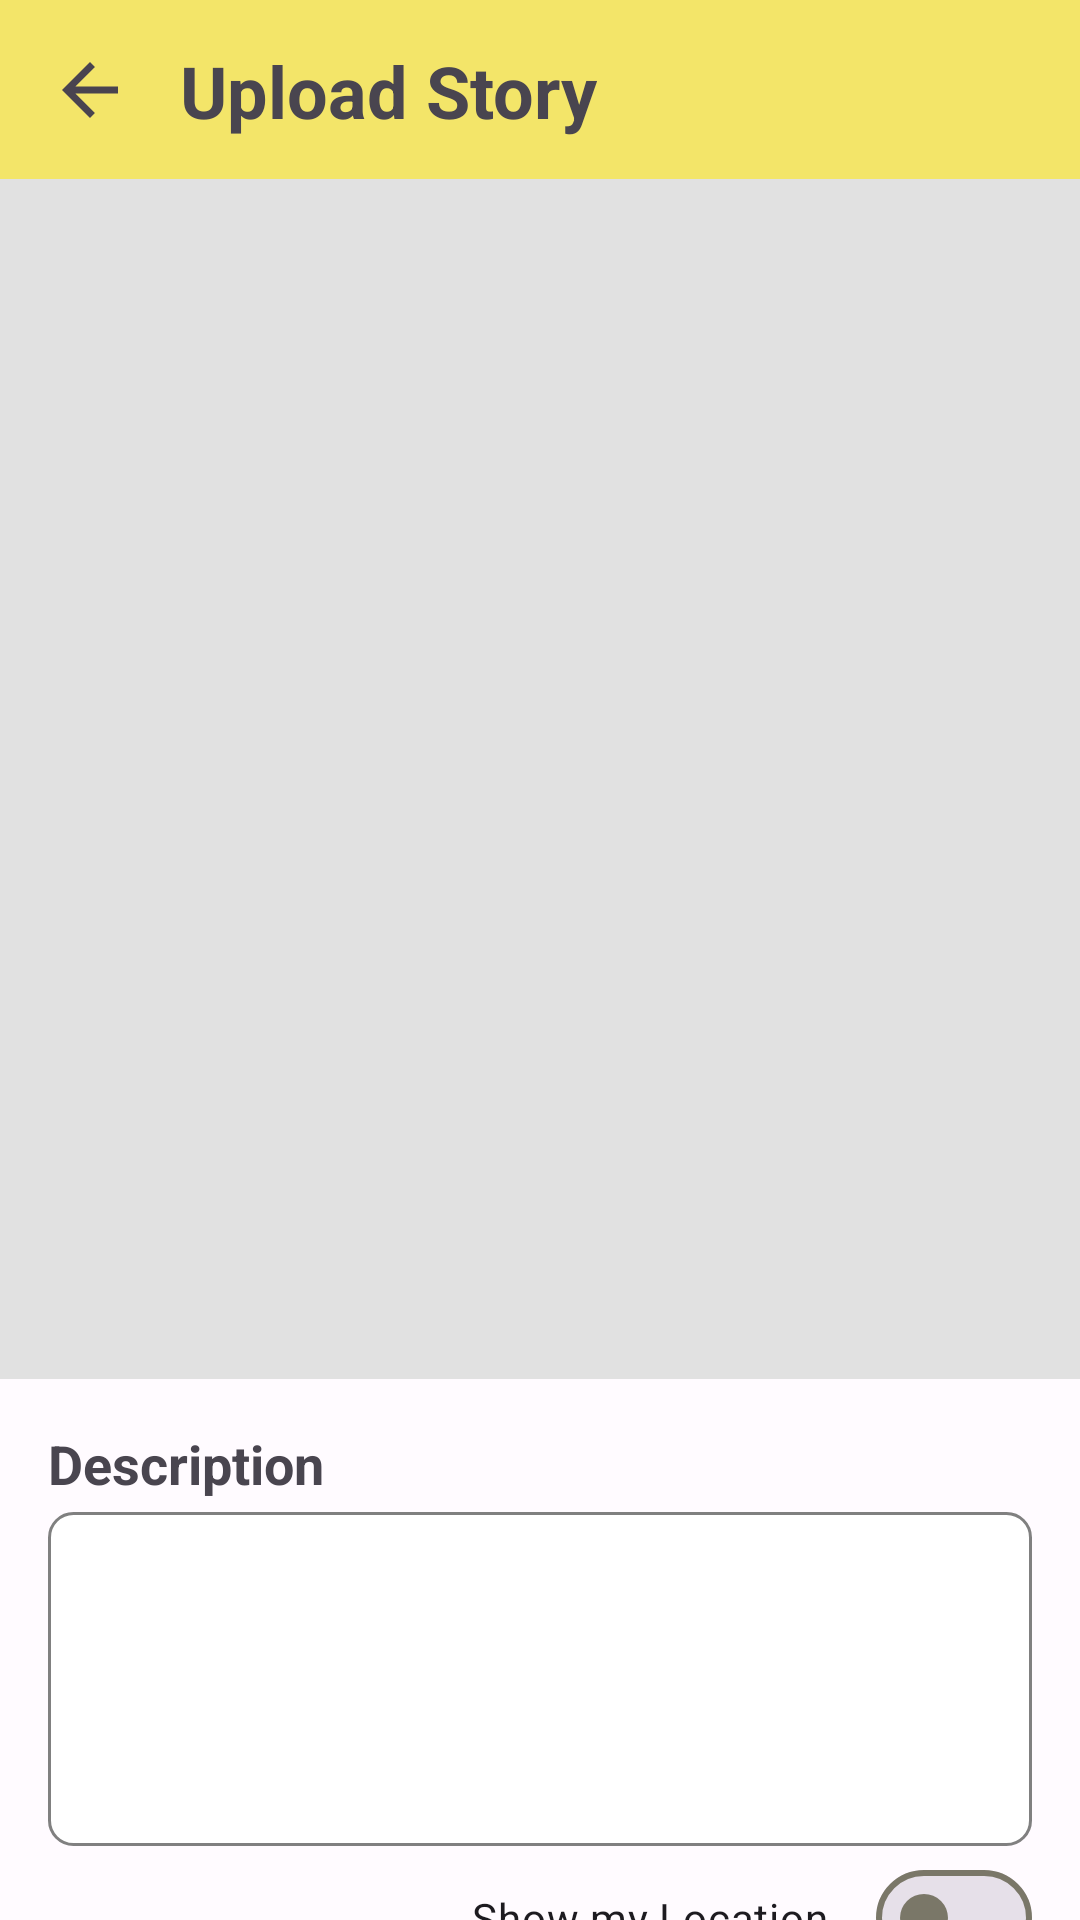

Where icons sit on this 1080 x 1920 app screen, as (x1, y1, x2, y2):
Back to camera: (62, 62, 118, 118)
